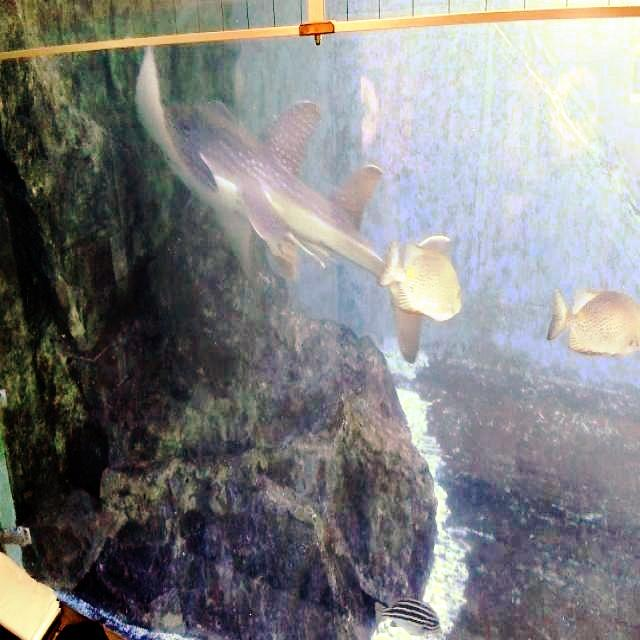Mud skate: (124, 36, 432, 374)
Plectorhinchus lessonii: (369, 580, 451, 640)
gold snapper: (540, 272, 640, 369), (382, 236, 467, 339)
